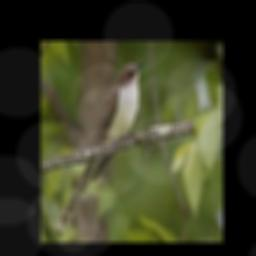Cuckoo: (56, 61, 146, 232)
